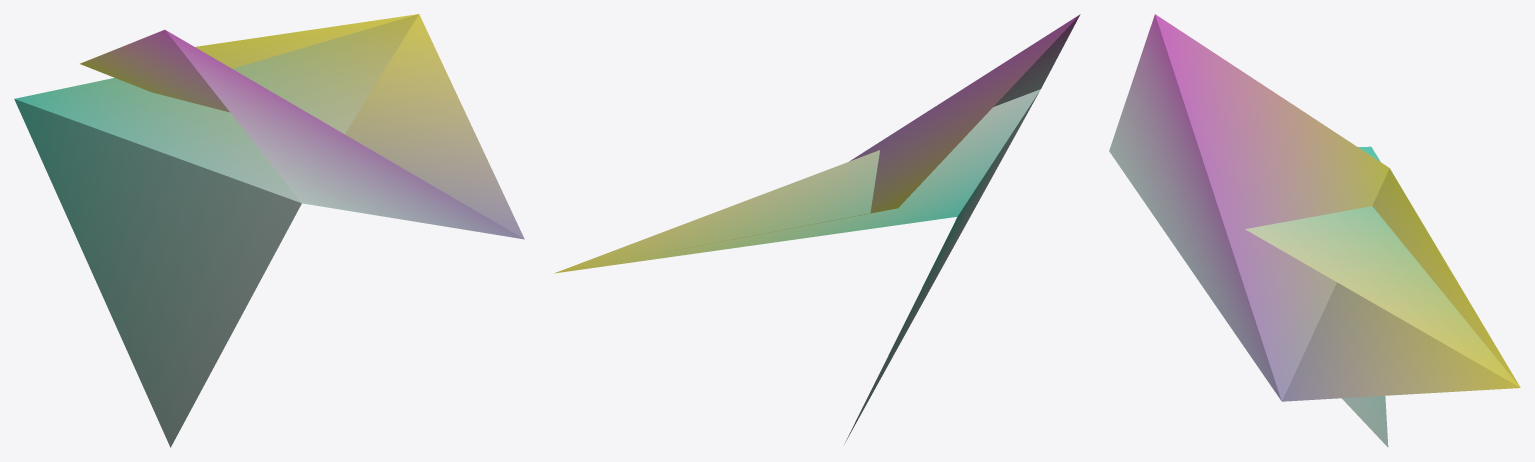
3 renders of one model, left to right at view 1: azimuth 30°, elevation 25°; view 2: azimuth 150°, elevation 25°; view 3: azimuth 270°, elevation 25°, orthographic. The views are drawn at different scales.
Visible parts, largest first — view 1: world; view 2: world; view 3: world.
Boxes of the visible parts, x1=… form: world: x1=14, y1=14, x2=524, y2=447; world: x1=554, y1=14, x2=1080, y2=444; world: x1=1109, y1=14, x2=1520, y2=447.
Bounding box in the file's own units: 0.7956 × 0.836 × 0.8313.
